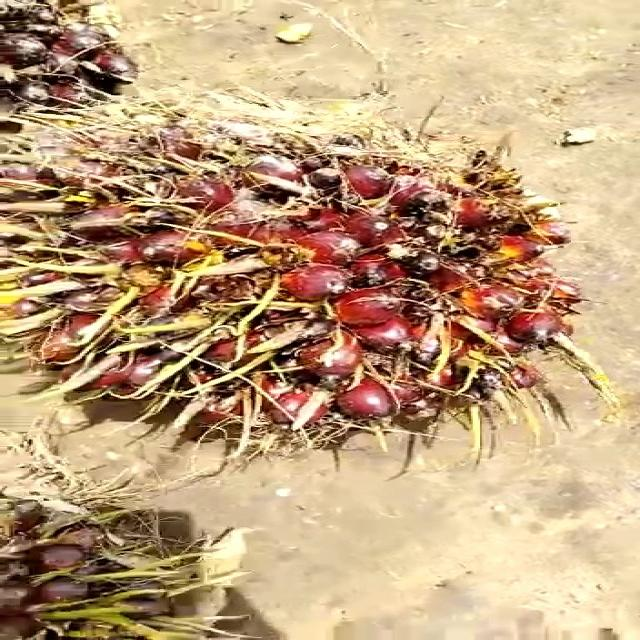palm oil: (0, 94, 587, 447)
